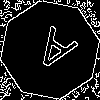A: (25, 25, 79, 82)
